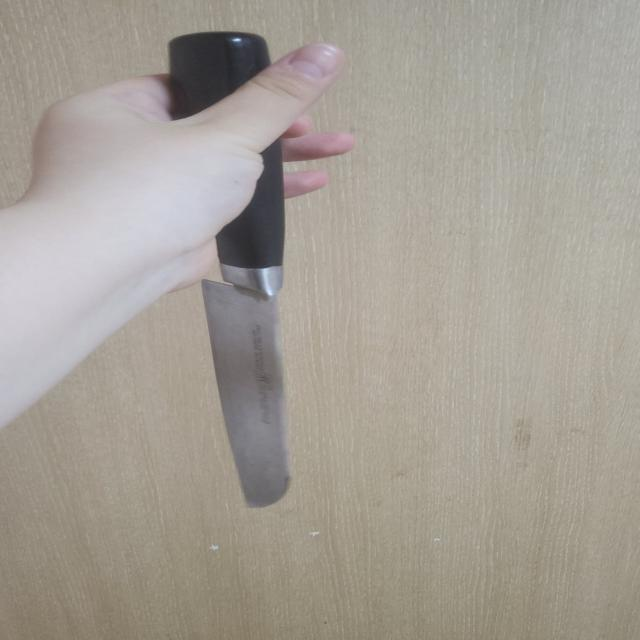knife: (169, 30, 290, 508)
